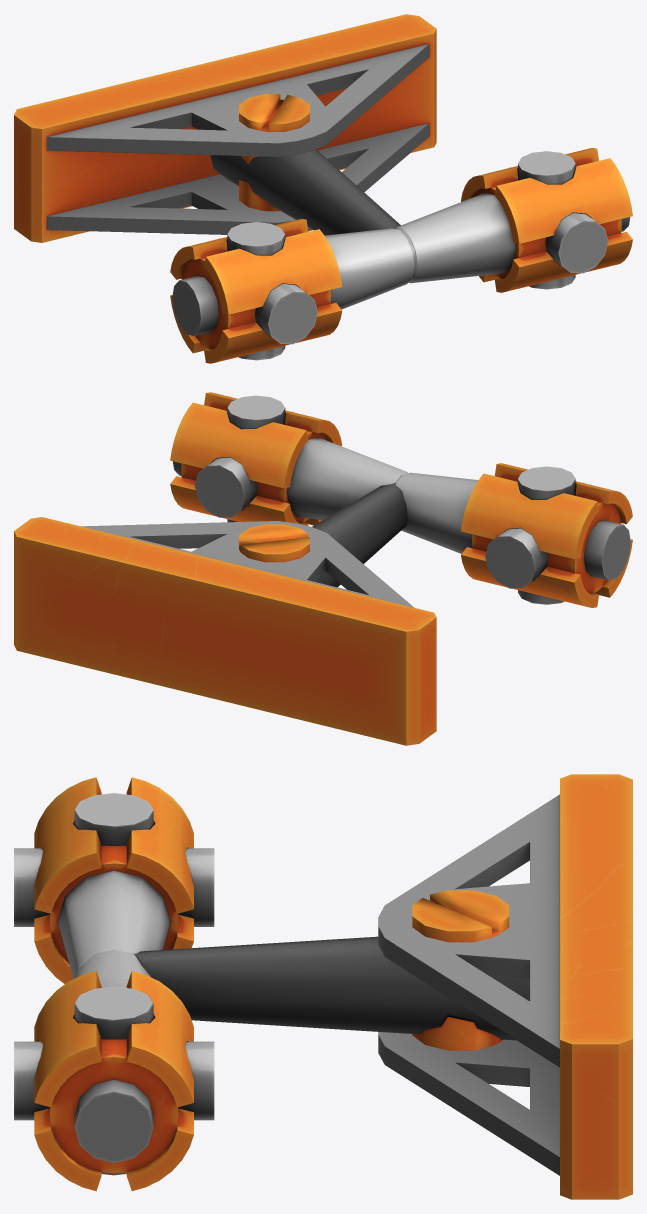
The model's file is front_wagspinner_arena_3.fbx.
3 views of the same model, one above another, from view 1: azimuth 30°, elevation 25°; view 2: azimuth 150°, elevation 25°; view 3: azimuth 270°, elevation 25° (orthographic). The views are drawn at different scales.
Parts seen in each view (by area): view 1: Cylinder.126, Cylinder.114; view 2: Cylinder.114, Cylinder.126; view 3: Cylinder.126, Cylinder.114.
Boxes of the visible parts, bbox=[...] form: Cylinder.126: bbox=[170, 94, 632, 363]; Cylinder.114: bbox=[14, 14, 436, 242]; Cylinder.114: bbox=[14, 517, 436, 745]; Cylinder.126: bbox=[170, 392, 632, 607]; Cylinder.126: bbox=[14, 777, 529, 1191]; Cylinder.114: bbox=[378, 774, 632, 1199].
Bounding box in the file's own units: 197 × 50.87 × 180.
